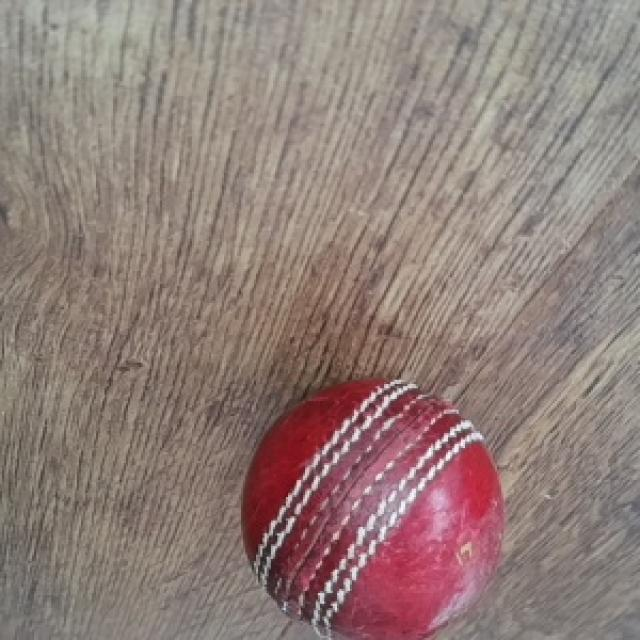ball: (241, 380, 503, 640)
